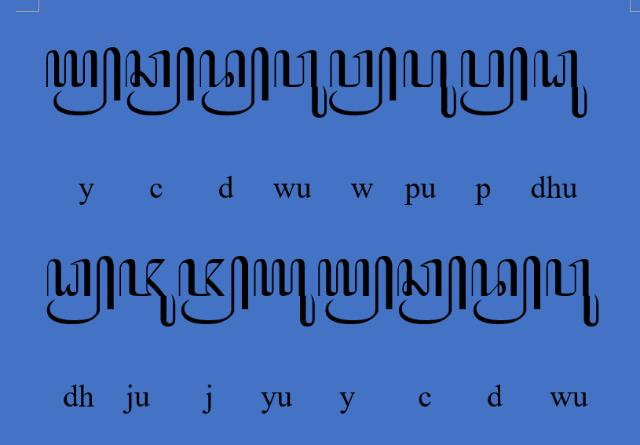-c: (124, 46, 196, 117), (398, 254, 467, 326)
-d: (198, 46, 270, 116), (471, 256, 542, 326)
-dh: (46, 254, 116, 326)
-j: (177, 254, 250, 326)
-p: (459, 46, 528, 116)
-w: (328, 46, 398, 116)
-y: (46, 47, 122, 117), (318, 255, 394, 325)
dhu: (532, 49, 588, 119)
ju: (118, 257, 176, 329)
pu: (402, 48, 456, 117)
wu: (273, 49, 327, 120), (545, 258, 599, 328)
yu: (254, 257, 316, 329)
